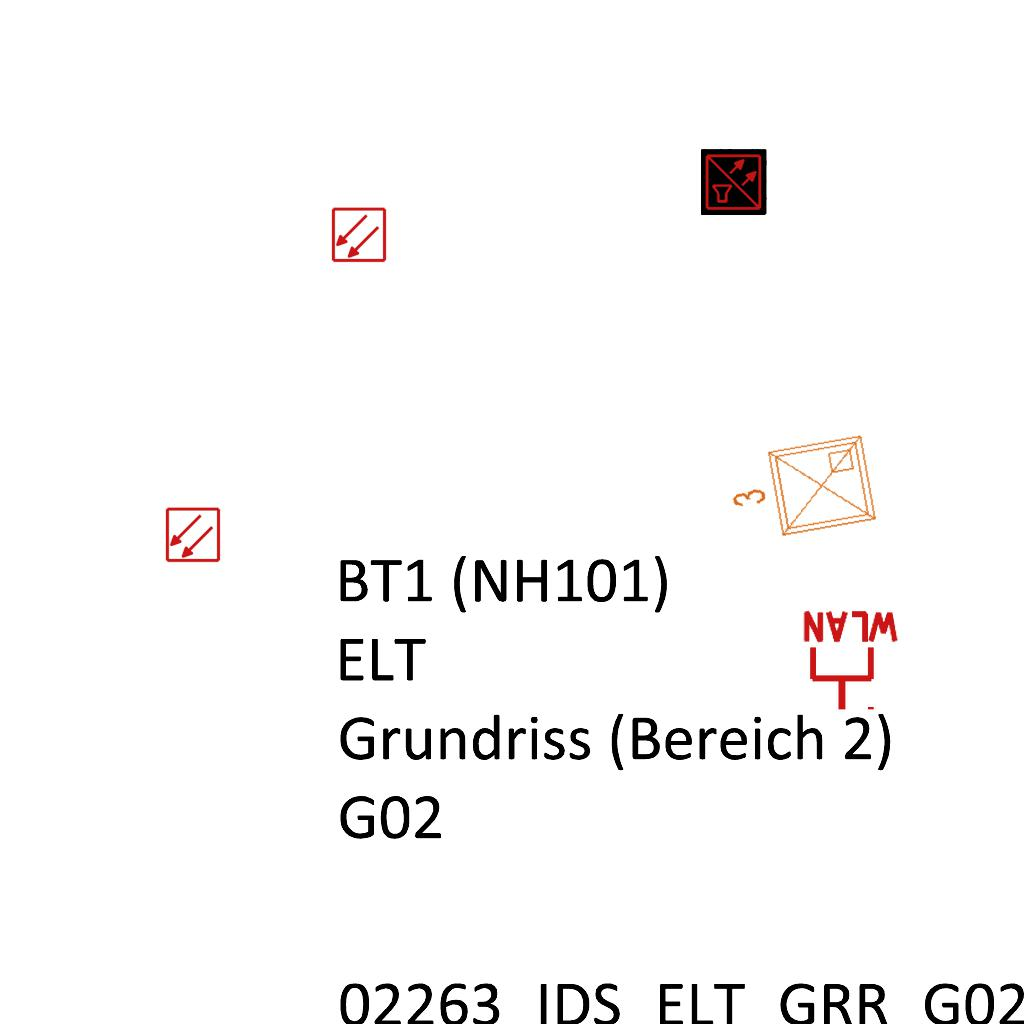Einbaudownlights_LED_Konferenzraeume: (719, 426, 885, 556)
OKW_Multisensormelder_(Kombination_optischer_Rauch-Kahlenmonoxid_Waerme-Melder): (701, 149, 767, 215)
RMO_Rauchmelder_optischer: (165, 507, 221, 563), (331, 207, 387, 263)
WLAN: (799, 609, 903, 714)
